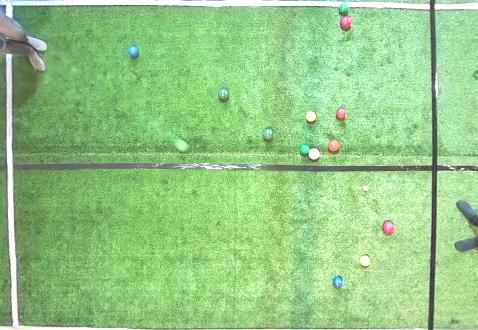blue: (127, 45, 138, 58), (333, 276, 343, 288)
green: (175, 139, 189, 153), (263, 128, 274, 140), (218, 88, 229, 100), (299, 144, 309, 156), (338, 4, 348, 14)
red: (340, 16, 352, 29), (328, 139, 340, 152), (382, 222, 395, 234), (308, 148, 320, 160), (336, 108, 346, 119)
vline: (427, 1, 478, 329), (0, 53, 22, 329)
white: (364, 186, 368, 191)
yellow: (305, 111, 316, 122), (360, 255, 370, 266)
